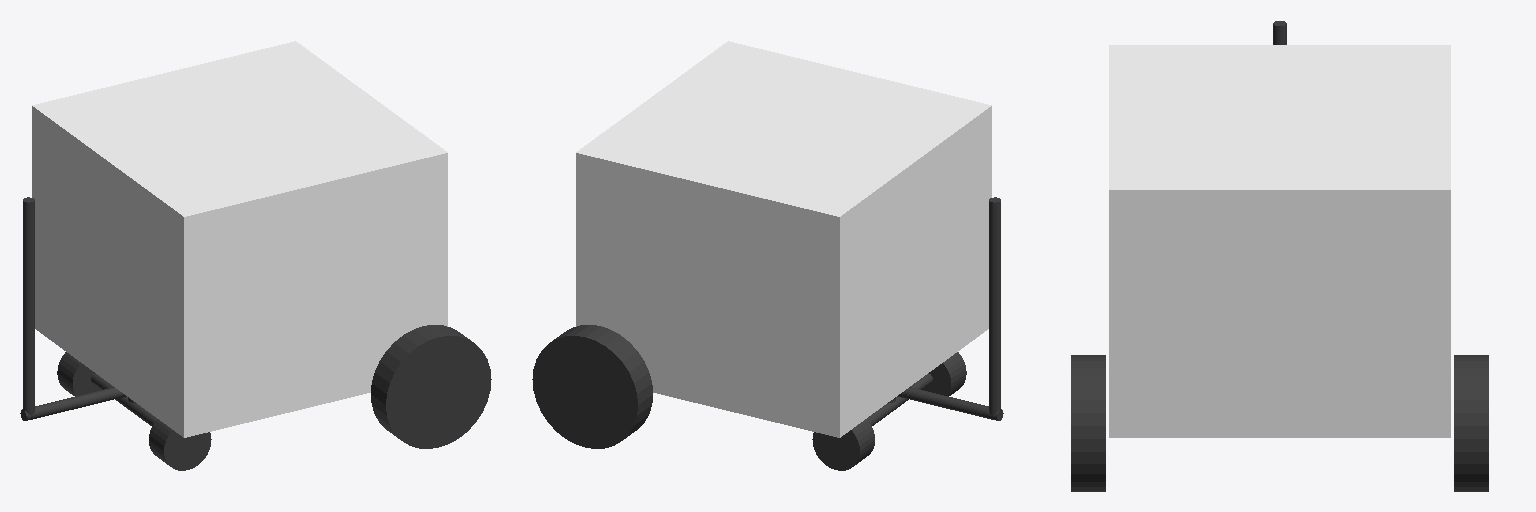
robot.urdf — pole_box:
<?xml version="1.0"?>
<robot name="pole_box">

  <link name="box">
    <contact>
        <lateral_friction value="0.5"/>
        <rolling_friction value="0.0"/>
        <contact_cfm value="0.0"/>
        <contact_erp value="1.0"/>
    </contact>
    <inertial>
        <origin rpy="0 0 0" xyz="0 0 0"/>
        <mass value="30"/>
    </inertial>
    <visual>
        <origin rpy="0 0 0" xyz="0 0 0"/>
        <geometry>
        <box size="1.0 1.0 0.8"/>
        </geometry>
        <material name="slider_mat">
        <color rgba="1.0 1.0 1.0 1"/>
        </material>
    </visual>
    <collision>
        <origin rpy="0 0 0" xyz="0 0 0"/>
        <geometry>
        <box size="1.0 1.0 0.8"/>
        </geometry>
    </collision>
  </link>

  <link name="axis_pole">
    <contact>
      <lateral_friction value="0.5"/>
      <rolling_friction value="0.0"/>
      <contact_cfm value="0.0"/>
      <contact_erp value="1.0"/>
    </contact>
    <inertial>
      <origin rpy="0 0 0" xyz="0 0 0"/>
        <mass value="1"/>
    </inertial>
    <visual>
        <origin rpy="0 0 0" xyz="0 0 0"/>
      <geometry>
        <!-- <box size="0.03 8 0.03"/> -->
        <cylinder length="0.088" radius="0.02"/>
      </geometry>
      <material name="slider_mat">
        <color rgba="0.3 0.3 0.3 1"/>
      </material>
    </visual>
    <collision>
      <origin rpy="0 0 0" xyz="0 0 0"/>
      <geometry>
        <!-- <box size="0.03 8 0.03"/>-->
        <cylinder length="0.088" radius="0.02"/>
      </geometry>
    </collision>
  </link>
  <joint name="box_to_axis_pole" type="continuous">
    <parent link="box"/>
    <child link="axis_pole"/>
    <origin rpy="0 0 0" xyz="-0.4 0 -0.445"/>
    <axis xyz="0 0 1"/>
  </joint>

  <link name="axis_link_pole">
    <contact>
      <lateral_friction value="0.5"/>
      <rolling_friction value="0.0"/>
      <contact_cfm value="0.0"/>
      <contact_erp value="1.0"/>
    </contact>
    <inertial>
      <origin rpy="0 0 0" xyz="0 0 0"/>
        <mass value="1"/>
    </inertial>
    <visual>
        <origin rpy="0 0 0" xyz="0 0 0"/>
      <geometry>
        <cylinder length="0.44" radius="0.02"/>
      </geometry>
      <material name="slider_mat">
        <color rgba="0.3 0.3 0.3 1"/>
      </material>
    </visual>
    <collision>
      <origin rpy="0 0 0" xyz="0 0 0"/>
      <geometry>
        <cylinder length="0.44" radius="0.02"/>
      </geometry>
    </collision>
  </link>
  <joint name="axis_pole_to_axis_link_pole" type="fixed">
    <parent link="axis_pole"/>
    <child link="axis_link_pole"/>
    <origin rpy="0 1.5708 0" xyz="-0.2 0 0"/>
  </joint>

  <link name="axis_link_pole2">
    <contact>
      <lateral_friction value="0.5"/>
      <rolling_friction value="0.0"/>
      <contact_cfm value="0.0"/>
      <contact_erp value="1.0"/>
    </contact>
    <inertial>
      <origin rpy="0 0 0" xyz="0 0 0"/>
        <mass value="1"/>
    </inertial>
    <visual>
        <origin rpy="0 0 0" xyz="0 0 0"/>
      <geometry>
        <cylinder length="0.775" radius="0.02"/>
      </geometry>
      <material name="slider_mat">
        <color rgba="0.3 0.3 0.3 1"/>
      </material>
    </visual>
    <collision>
      <origin rpy="0 0 0" xyz="0 0 0"/>
      <geometry>
        <cylinder length="0.775" radius="0.02"/>
      </geometry>
    </collision>
  </link>
  <!-- <joint name="axis_linke_pole_to_axis_link_pole2" type="fixed">
    <parent link="axis_link_pole"/>
    <child link="axis_link_pole2"/>
    <origin rpy="0 1.5708 0" xyz="-0.3875 0 -0.2"/>
  </joint> -->
  <joint name="axis_linke_pole_to_axis_link_pole2" type="continuous">
    <parent link="axis_link_pole"/>
    <child link="axis_link_pole2"/>
    <origin rpy="0 1.5708 0" xyz="-0.3875 0 -0.2"/>
    <axis xyz="0 0 1"/>
  </joint>

  <link name="handle_pole">
    <contact>
      <lateral_friction value="0.5"/>
      <rolling_friction value="0.0"/>
      <contact_cfm value="0.0"/>
      <contact_erp value="1.0"/>
    </contact>
    <inertial>
      <origin rpy="0 0 0" xyz="0 0 0"/>
        <mass value="1"/>
    </inertial>
    <visual>
        <origin rpy="0 0 0" xyz="0 0 0"/>
        <geometry>
            <mesh filename="SteeringWheel/Steeringwheel.obj" scale="0.1 0.1 0.1"/>
          </geometry>
          <material name="couch_material">
            <color rgba="0.3 0.3 0.3 1"/>
          </material>
    </visual>
    <collision>
        <origin rpy="0 0 0" xyz="0 0 0"/>
        <geometry>
            <mesh filename="SteeringWheel/Steeringwheel.obj" scale="0.1 0.1 0.1"/>
        </geometry>
      </collision>
  </link>
  <!-- <joint name="axis_link_pole2_to_handle_pole" type="fixed">
    <parent link="axis_link_pole2"/>
    <child link="handle_pole"/>
    <origin rpy="1.5708 0 0" xyz="0 0 -0.3875"/>
  </joint> -->
  <joint name="axis_link_pole2_to_handle_pole" type="continuous">
    <parent link="axis_link_pole2"/>
    <child link="handle_pole"/>
    <origin rpy="-1.5708 0 -1.5708" xyz="0 0 -0.3875"/>
    <axis xyz="1 0 0"/>
  </joint>

  <link name="coupling_pole">
    <contact>
      <lateral_friction value="0.5"/>
      <rolling_friction value="0.0"/>
      <contact_cfm value="0.0"/>
      <contact_erp value="1.0"/>
    </contact>
    <inertial>
      <origin rpy="0 0 0" xyz="0 0 0"/>
        <mass value="1"/>
    </inertial>
    <visual>
        <origin rpy="0 0 0" xyz="0 0 0"/>
      <geometry>
        <!-- <box size="0.03 8 0.03"/> -->
        <cylinder length="0.6" radius="0.02"/>
      </geometry>
      <material name="slider_mat">
        <color rgba="0.3 0.3 0.3 1"/>
      </material>
    </visual>
    <collision>
      <origin rpy="0 0 0" xyz="0 0 0"/>
      <geometry>
        <!-- <box size="0.03 8 0.03"/>-->
        <cylinder length="0.6" radius="0.02"/>
      </geometry>
    </collision>
  </link>
  <joint name="axis_pole_to_coupling_pole" type="continuous">
    <parent link="axis_pole"/>
    <child link="coupling_pole"/>
    <origin rpy="1.5708 0 0" xyz="0 0 -0.065"/>
    <axis xyz="0 0 1"/>
  </joint>

  <link name="right_front_wheel">
    <inertial>
      <origin rpy="0 0 0" xyz="0 0 0"/>
        <mass value="5"/>
    </inertial>
    <visual>
        <origin rpy="0 0 0" xyz="0 0 0"/>
      <geometry>
        <!-- <box size="0.03 8 0.03"/> -->
        <cylinder length="0.1" radius="0.09"/>
      </geometry>
      <material name="slider_mat">
        <color rgba="0.3 0.3 0.3 1"/>
      </material>
    </visual>
    <collision>
      <origin rpy="0 0 0" xyz="0 0 0"/>
      <geometry>
        <!-- <box size="0.03 8 0.03"/>-->
        <cylinder length="0.1" radius="0.09"/>
      </geometry>
    </collision>
  </link>
  <joint name="coupling_pole_to_right_front_wheel" type="fixed">
    <parent link="coupling_pole"/>
    <child link="right_front_wheel"/>
    <origin rpy="0 0 0" xyz="0 0 -0.3"/>
  </joint>

  <link name="right_rear_wheel">
    <inertial>
      <origin rpy="0 0 0" xyz="0 0 0"/>
        <mass value="5"/>
    </inertial>
    <visual>
        <origin rpy="0 0 0" xyz="0 0 0"/>
      <geometry>
        <!-- <box size="0.03 8 0.03"/> -->
        <cylinder length="0.1" radius="0.2"/>
      </geometry>
      <material name="slider_mat">
        <color rgba="0.3 0.3 0.3 1"/>
      </material>
    </visual>
    <collision>
      <origin rpy="0 0 0" xyz="0 0 0"/>
      <geometry>
        <!-- <box size="0.03 8 0.03"/>-->
        <cylinder length="0.1" radius="0.2"/>
      </geometry>
    </collision>
  </link>
  <joint name="box_to_right_rear_wheel" type="continuous">
    <parent link="box"/>
    <child link="right_rear_wheel"/>
    <origin rpy="1.5708 0 0" xyz="0.4 0.56 -0.4"/>
    <axis xyz="0 0 1"/>
  </joint>

  <link name="left_front_wheel">
    <inertial>
      <origin rpy="0 0 0" xyz="0 0 0"/>
        <mass value="5"/>
    </inertial>
    <visual>
        <origin rpy="0 0 0" xyz="0 0 0"/>
      <geometry>
        <!-- <box size="0.03 8 0.03"/> -->
        <cylinder length="0.1" radius="0.09"/>
      </geometry>
      <material name="slider_mat">
        <color rgba="0.3 0.3 0.3 1"/>
      </material>
    </visual>
    <collision>
      <origin rpy="0 0 0" xyz="0 0 0"/>
      <geometry>
        <!-- <box size="0.03 8 0.03"/>-->
        <cylinder length="0.1" radius="0.09"/>
      </geometry>
    </collision>
  </link>
  <joint name="coupling_pole_to_left_front_wheel" type="fixed">
    <parent link="coupling_pole"/>
    <child link="left_front_wheel"/>
    <origin rpy="0 0 0" xyz="0 0 0.3"/>
  </joint>

  <link name="left_rear_wheel">
    <inertial>
      <origin rpy="0 0 0" xyz="0 0 0"/>
        <mass value="5"/>
    </inertial>
    <visual>
        <origin rpy="0 0 0" xyz="0 0 0"/>
      <geometry>
        <!-- <box size="0.03 8 0.03"/> -->
        <cylinder length="0.1" radius="0.2"/>
      </geometry>
      <material name="slider_mat">
        <color rgba="0.3 0.3 0.3 1"/>
      </material>
    </visual>
    <collision>
      <origin rpy="0 0 0" xyz="0 0 0"/>
      <geometry>
        <!-- <box size="0.03 8 0.03"/>-->
        <cylinder length="0.1" radius="0.2"/>
      </geometry>
    </collision>
  </link>
  <joint name="box_to_left_rear_wheel" type="continuous">
    <parent link="box"/>
    <child link="left_rear_wheel"/>
    <origin rpy="1.5708 0 0" xyz="0.4 -0.56 -0.4"/>
    <axis xyz="0 0 1"/>
  </joint>

  

</robot>

--- Facts derived from the render (not from the file) ---
Views: 3 orthographic renders of the robot side by side, from view 1: azimuth 30°, elevation 25°; view 2: azimuth 150°, elevation 25°; view 3: azimuth 270°, elevation 25°.
Model pole_box with 10 links and 9 joints (6 continuous, 3 fixed), rooted at box, posed all joints at 0.
Links seen in each view (by area): view 1: box, left_rear_wheel, axis_link_pole2, left_front_wheel, axis_link_pole, right_front_wheel, coupling_pole; view 2: box, right_rear_wheel, axis_link_pole2, right_front_wheel, axis_link_pole, left_front_wheel, coupling_pole; view 3: box, right_rear_wheel, left_rear_wheel.
Link boxes in pixels (x1,y1,x2,y2): box: (32, 41, 447, 437); left_rear_wheel: (371, 325, 491, 448); axis_link_pole2: (23, 197, 34, 415); left_front_wheel: (149, 419, 211, 470); axis_link_pole: (20, 387, 126, 420); right_front_wheel: (57, 352, 100, 396); coupling_pole: (91, 373, 156, 425); box: (576, 41, 991, 437); right_rear_wheel: (532, 325, 652, 448); axis_link_pole2: (989, 197, 1000, 415); right_front_wheel: (812, 419, 874, 470); axis_link_pole: (897, 387, 1003, 420); left_front_wheel: (923, 352, 966, 396); coupling_pole: (867, 373, 932, 425); box: (1109, 45, 1450, 437); right_rear_wheel: (1454, 355, 1488, 491); left_rear_wheel: (1071, 355, 1105, 491).
Size in the robot's own frame: 1.42 by 1.22 by 1 metres.
Meshes: 1 distinct files referenced, 0 mesh visuals loaded (none loaded); not drawn: 1 (reference not matched to a file when rendering).